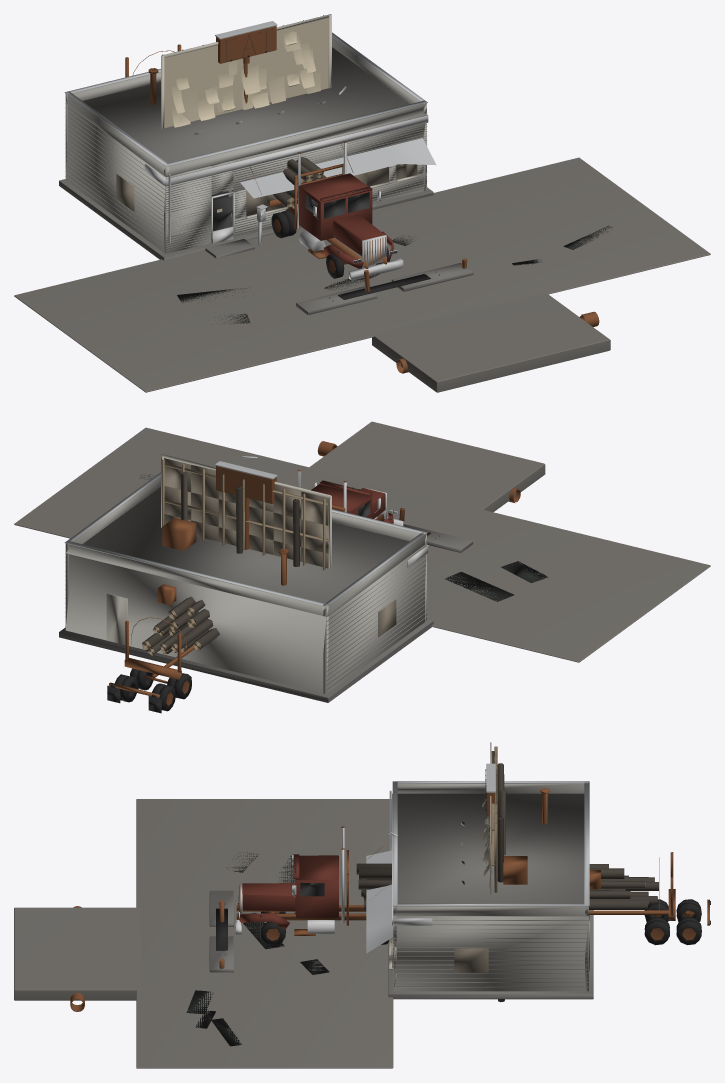
File: props_road.glb
3 views of the same model, one above another, from view 1: azimuth 30°, elevation 25°; view 2: azimuth 150°, elevation 25°; view 3: azimuth 270°, elevation 25° (orthographic). The views are drawn at different scales.
Parts seen in each view (by area): view 1: P_RC9_DINER-diner, P_RC9_TRUCK-logging_truck, P_RC9_BILLBOARD-billboard-face, P_RC9_BILLBOARD-billboard-peel, P_RC9_EAT-eat_sign, P_RC9_BILLBOARD-billboard, P_RC9_TRUCK-logging_truck-logs; view 2: P_RC9_DINER-diner, P_RC9_BILLBOARD-billboard, P_RC9_TRUCK-logging_truck, P_RC9_TRUCK-logging_truck-logs, P_RC9_EAT-eat_sign, P_RC9_TRUCK-logging_truck-axle_5, P_RC9_TRUCK-logging_truck-axle_4; view 3: P_RC9_DINER-diner, P_RC9_TRUCK-logging_truck, P_RC9_TRUCK-logging_truck-logs, P_RC9_BILLBOARD-billboard, P_RC9_TRUCK-logging_truck-axle_5, P_RC9_TRUCK-logging_truck-axle_4, P_RC9_TRUCK-logging_truck-axle_1, P_RC9_EAT-eat_sign.
Part boxes in pixels (box(x1,y1,x2,y2)): P_RC9_DINER-diner: box(14, 32, 710, 392); P_RC9_TRUCK-logging_truck: box(125, 44, 403, 280); P_RC9_BILLBOARD-billboard-face: box(164, 18, 328, 128); P_RC9_BILLBOARD-billboard-peel: box(172, 31, 320, 127); P_RC9_EAT-eat_sign: box(215, 21, 277, 103); P_RC9_BILLBOARD-billboard: box(161, 14, 331, 134); P_RC9_TRUCK-logging_truck-logs: box(273, 156, 326, 208); P_RC9_DINER-diner: box(14, 421, 710, 702); P_RC9_BILLBOARD-billboard: box(161, 454, 331, 570); P_RC9_TRUCK-logging_truck: box(107, 470, 403, 713); P_RC9_TRUCK-logging_truck-logs: box(142, 596, 219, 655); P_RC9_EAT-eat_sign: box(215, 461, 277, 549); P_RC9_TRUCK-logging_truck-axle_5: box(114, 674, 175, 711); P_RC9_TRUCK-logging_truck-axle_4: box(130, 668, 191, 699); P_RC9_DINER-diner: box(14, 781, 600, 1068); P_RC9_TRUCK-logging_truck: box(235, 826, 709, 935); P_RC9_TRUCK-logging_truck-logs: box(356, 863, 658, 909); P_RC9_BILLBOARD-billboard: box(461, 742, 506, 1002); P_RC9_TRUCK-logging_truck-axle_5: box(676, 899, 701, 944); P_RC9_TRUCK-logging_truck-axle_4: box(644, 899, 669, 945); P_RC9_TRUCK-logging_truck-axle_1: box(261, 911, 285, 945); P_RC9_EAT-eat_sign: box(486, 763, 495, 843).
Size of the model in its own units: 26 by 8.86 by 28.49.
